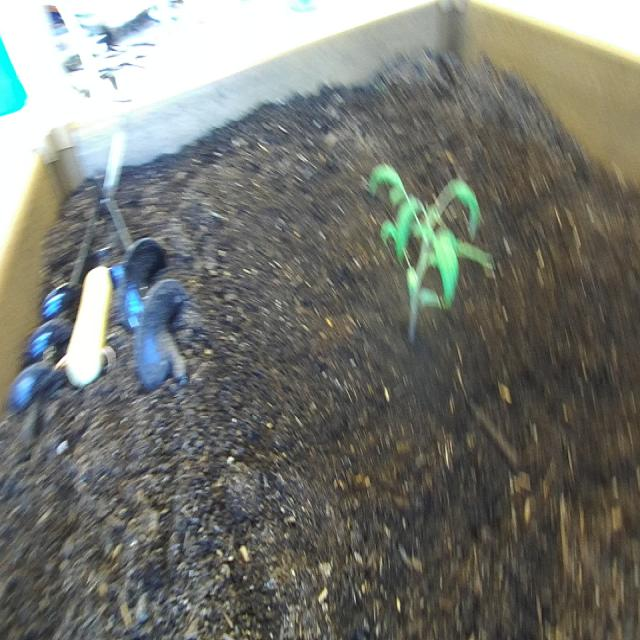Healthy: (358, 158, 501, 352)
